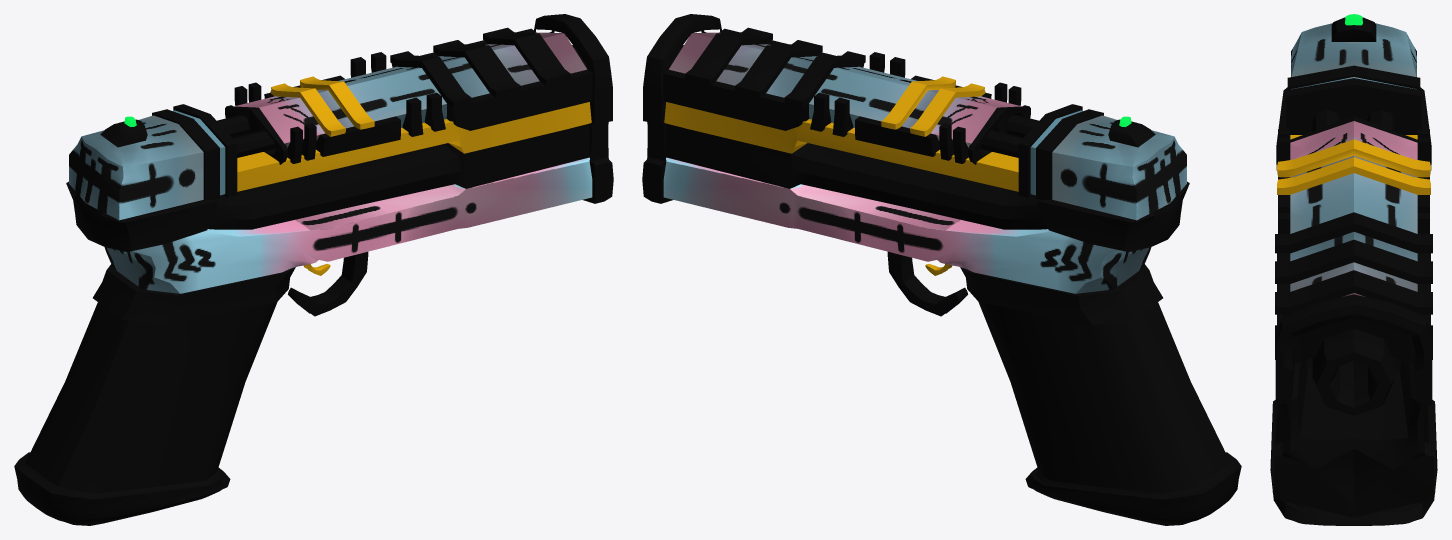
The model's file is Glock_futurista.gltf.
3 views of the same model, side by side, from view 1: azimuth 30°, elevation 25°; view 2: azimuth 150°, elevation 25°; view 3: azimuth 270°, elevation 25° (orthographic). The views are drawn at different scales.
Visible parts, largest first — view 1: Cube, Cube.001; view 2: Cube, Cube.001; view 3: Cube, Cube.001.
Part boxes in pixels (x1,y1,x2,y2): Cube: (14,14,613,525); Cube.001: (225,27,592,164); Cube: (642,14,1241,525); Cube.001: (663,27,1030,164); Cube: (1270,14,1437,525); Cube.001: (1275,116,1432,362).
Bounding box in the file's own units: 1.48 × 0.942 × 0.302.
Materials: 4 (1 with a texture image).
